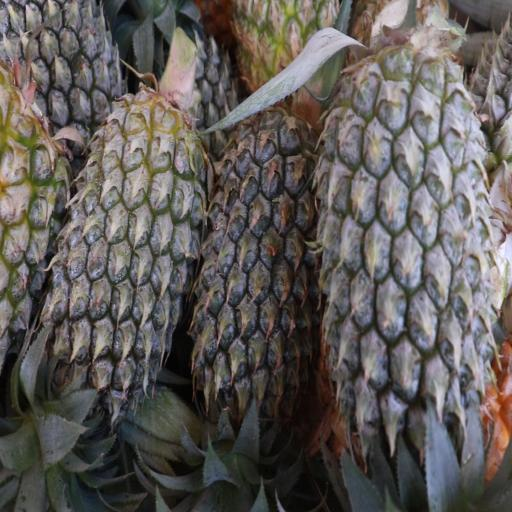------------------------------: (0, 84, 80, 366), (233, 0, 342, 113)
